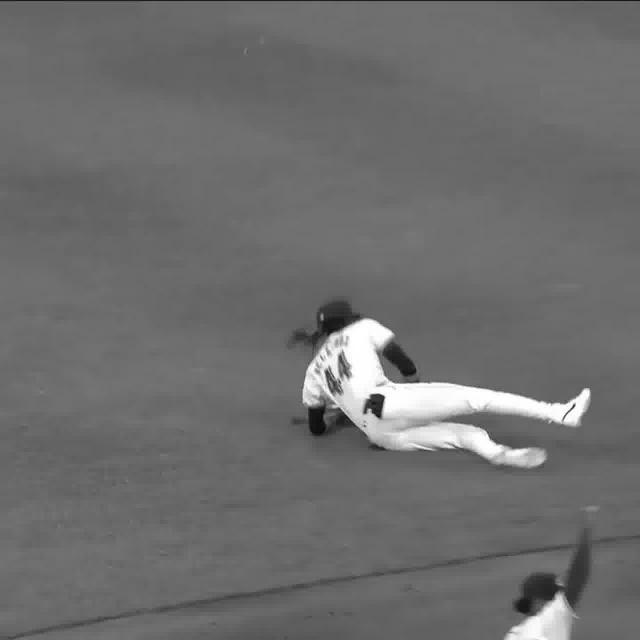shoe: (487, 442, 555, 468), (558, 388, 592, 428)
